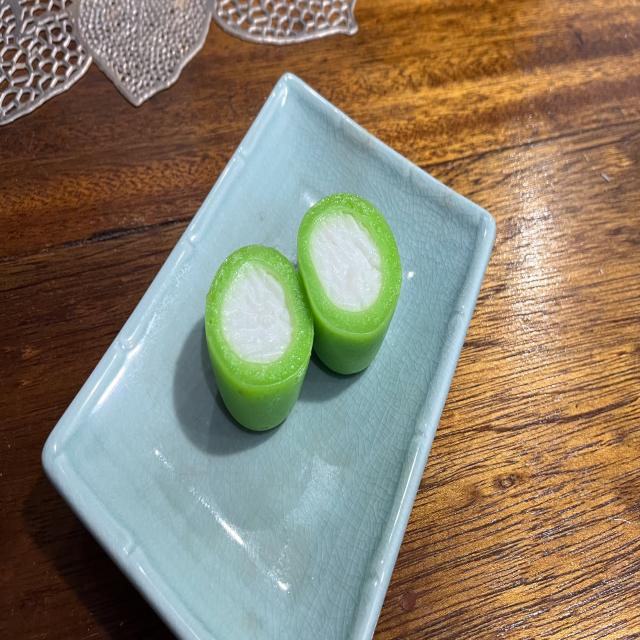nona-manis: (205, 244, 314, 431), (298, 193, 402, 373)
